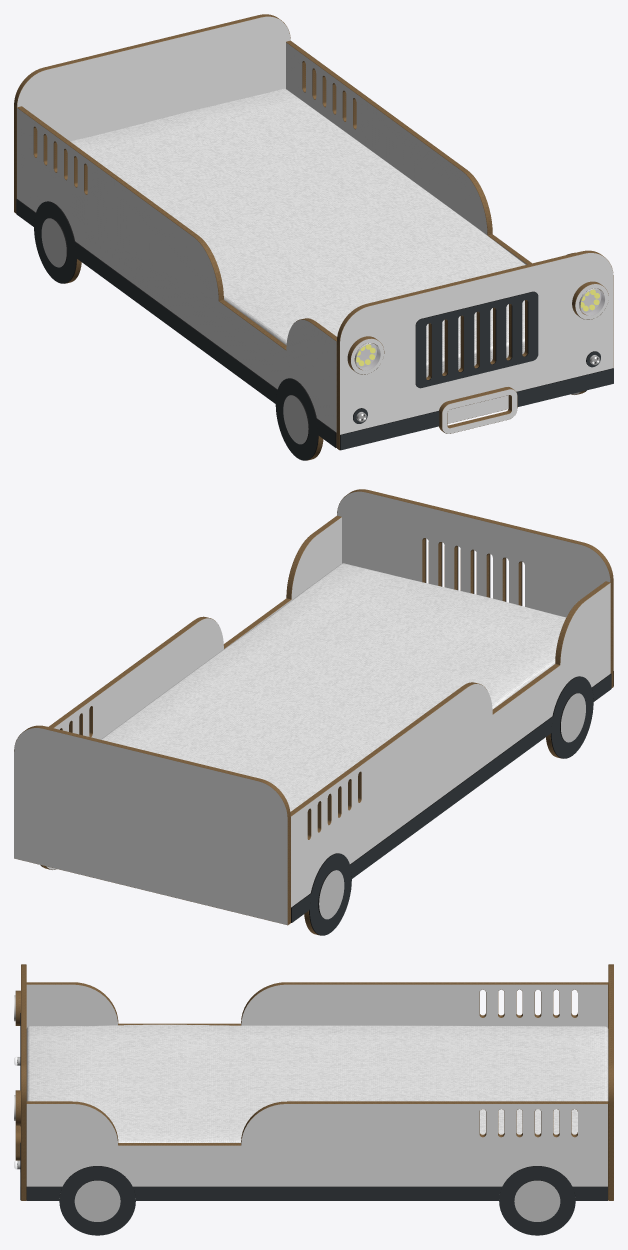
File: Bed190x90.glb
3 views of the same model, one above another, from view 1: azimuth 30°, elevation 25°; view 2: azimuth 150°, elevation 25°; view 3: azimuth 270°, elevation 25° (orthographic). The views are drawn at different scales.
Visible parts, largest first — view 1: Bed190x90; view 2: Bed190x90; view 3: Bed190x90.
Part boxes in pixels (x1,y1,x2,y2): Bed190x90: [14, 14, 613, 460]; Bed190x90: [14, 489, 613, 935]; Bed190x90: [14, 964, 613, 1235].
Bounding box in the file's own units: 0.952 × 0.575 × 1.96.
Materials: 16 (4 with a texture image).
